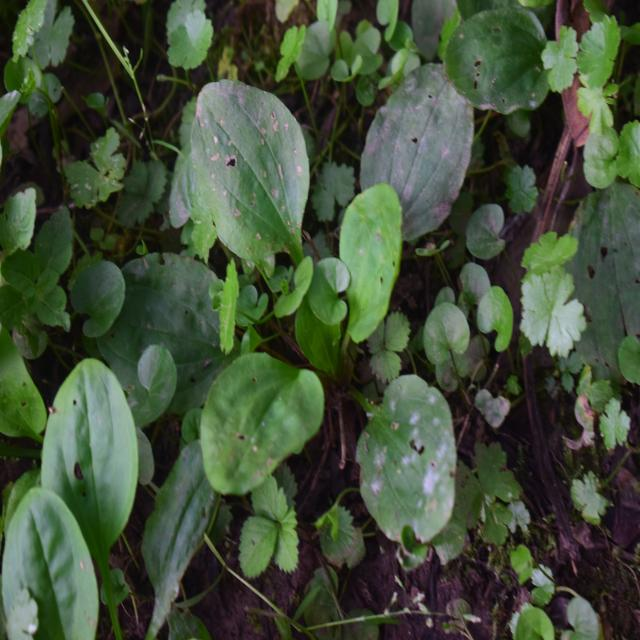plantain: (136, 66, 459, 528)
